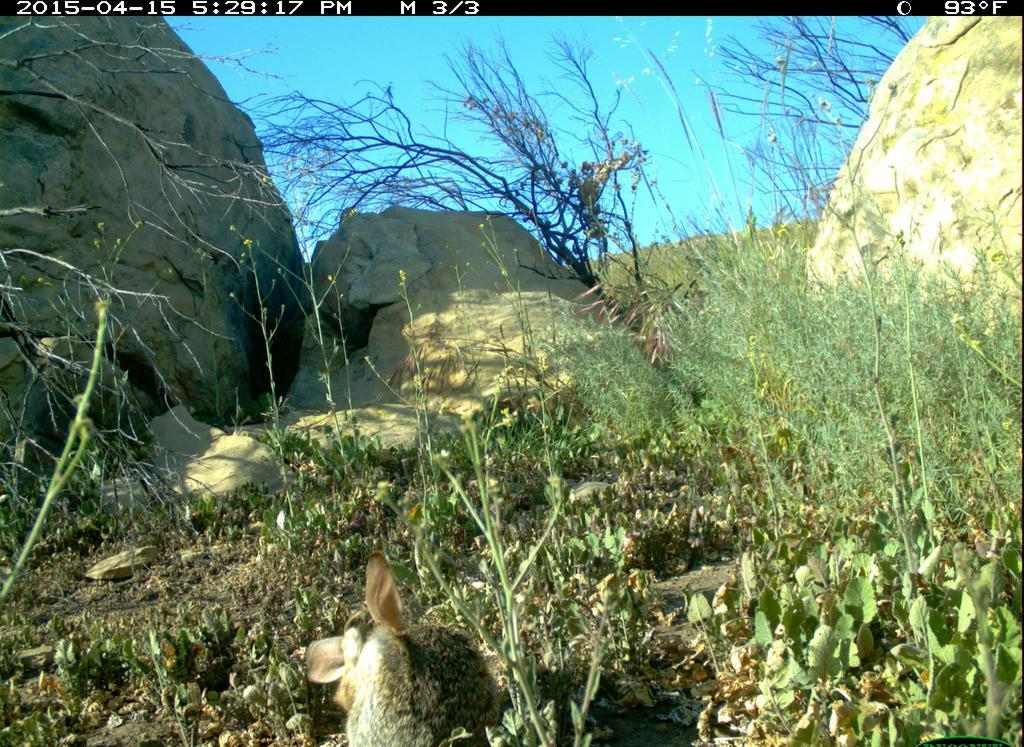rabbit: (299, 547, 509, 747)
